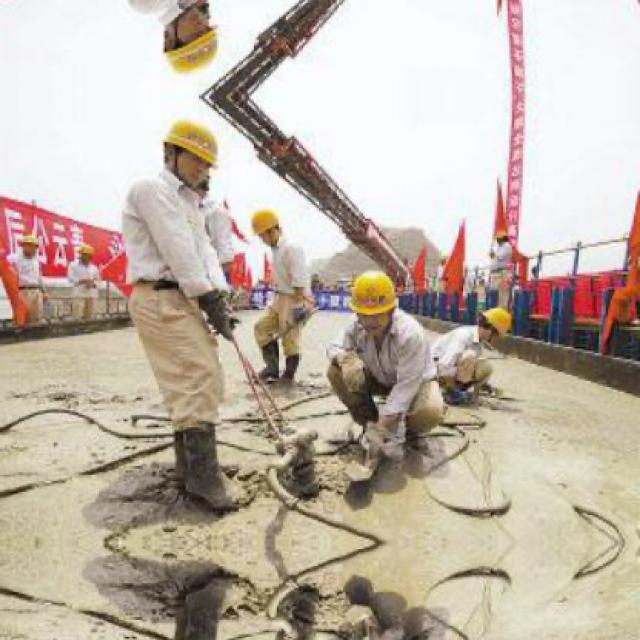helmet: (158, 105, 222, 194), (159, 0, 222, 89), (346, 267, 399, 336), (251, 202, 286, 248), (478, 304, 514, 341), (16, 230, 44, 260), (75, 239, 98, 267)
